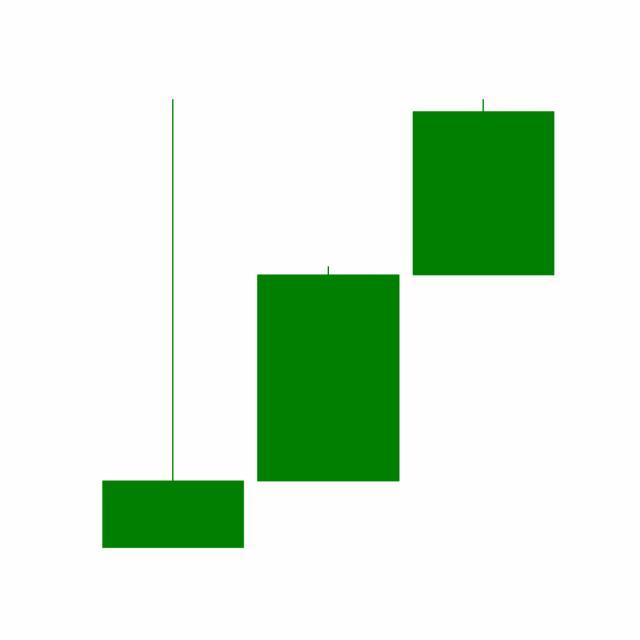Marubozu: (250, 264, 407, 484)
